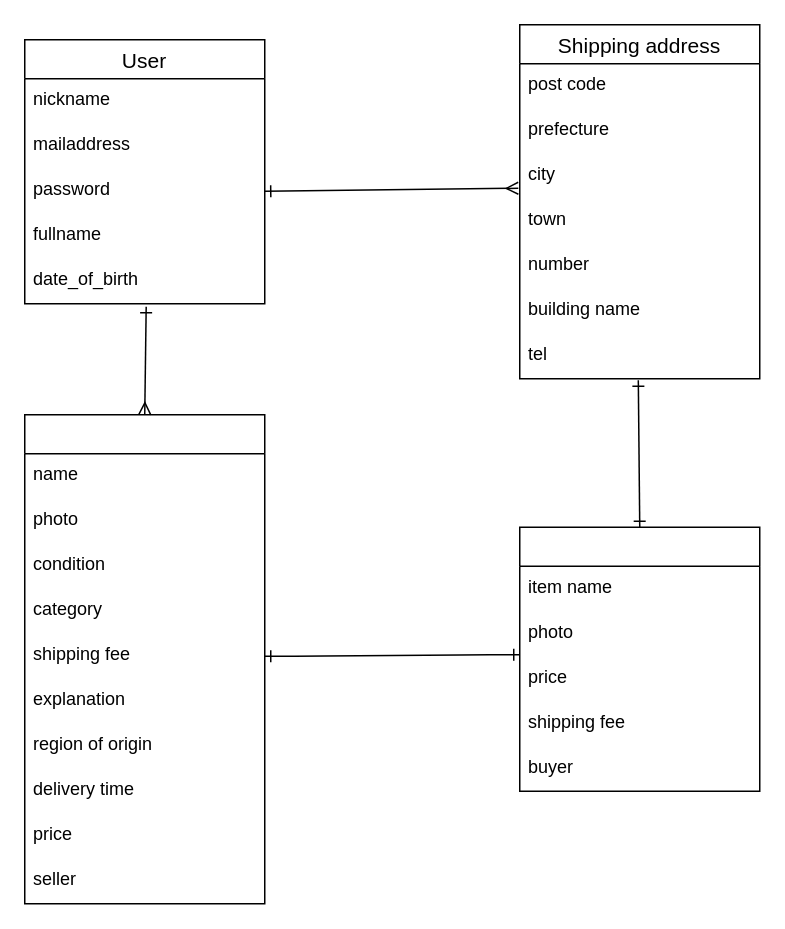
This 785x929 diagram has some shape labels left out. Each missing label, with the box of its shape:
Item: (23, 413, 265, 904)
Purchase record: (518, 526, 760, 791)
